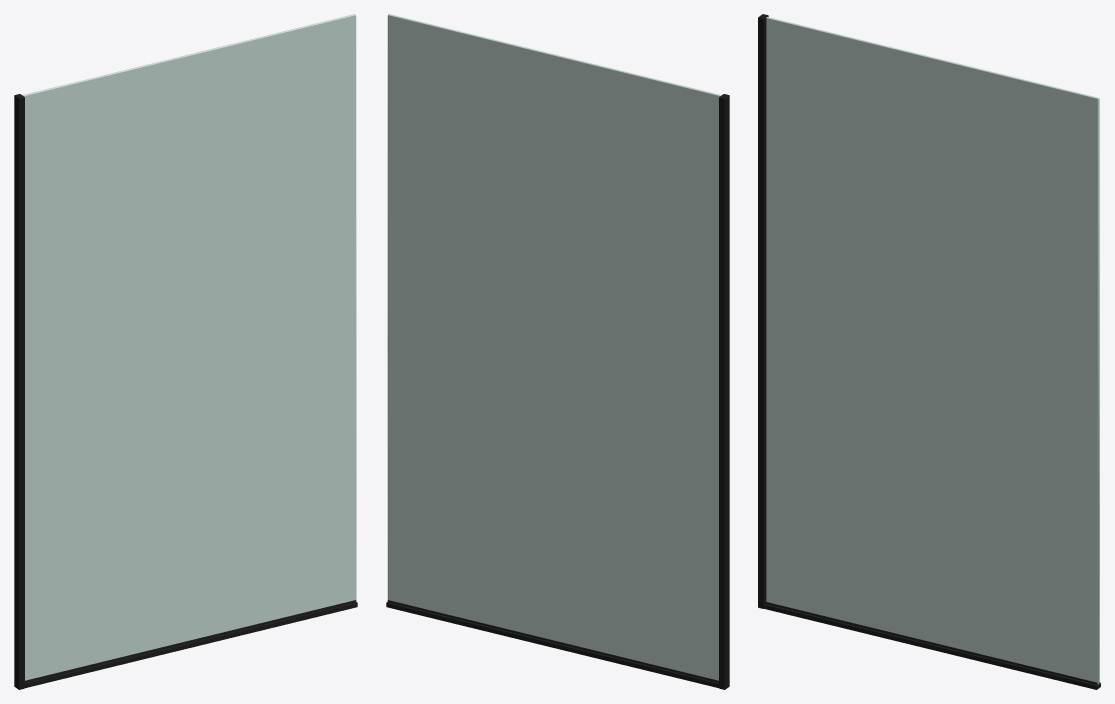
The model's file is shower-screen-1200.gltf.
The picture shows the model from 3 angles, left to right: view 1: azimuth 30°, elevation 25°; view 2: azimuth 150°, elevation 25°; view 3: azimuth 330°, elevation 25°; orthographic projection.
Parts seen in each view (by area): view 1: shower-screen; view 2: shower-screen; view 3: shower-screen.
Boxes of the visible parts, <box> form: shower-screen: <box>14,14,357,689</box>; shower-screen: <box>386,14,729,689</box>; shower-screen: <box>758,14,1100,689</box>.
Bounding box in the file's own units: 1.2 × 2 × 0.03.
